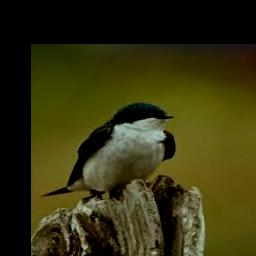Swallow: (42, 102, 175, 198)
